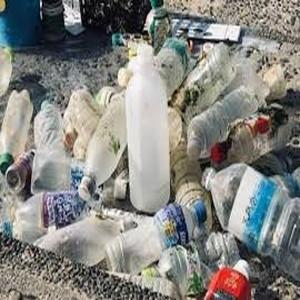Plastic: (201, 165, 300, 268), (106, 201, 206, 274), (126, 44, 169, 213), (80, 89, 129, 198), (186, 90, 259, 159), (31, 96, 72, 194), (0, 88, 33, 173)
